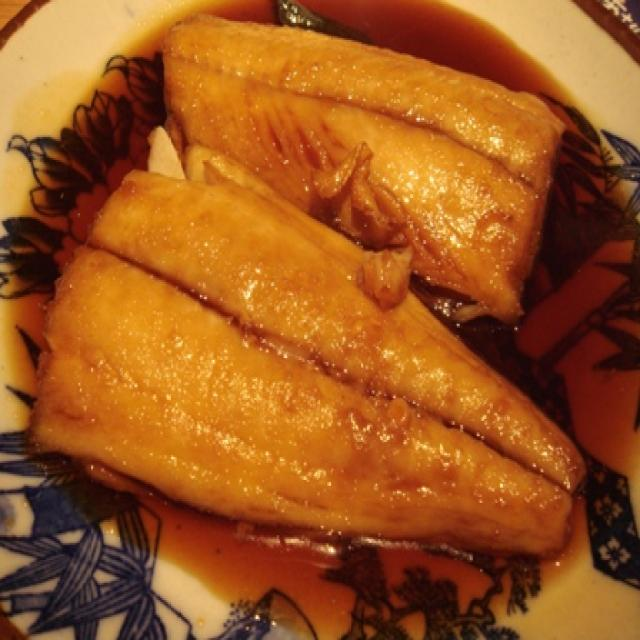熟制海鲜: (34, 0, 639, 613)
